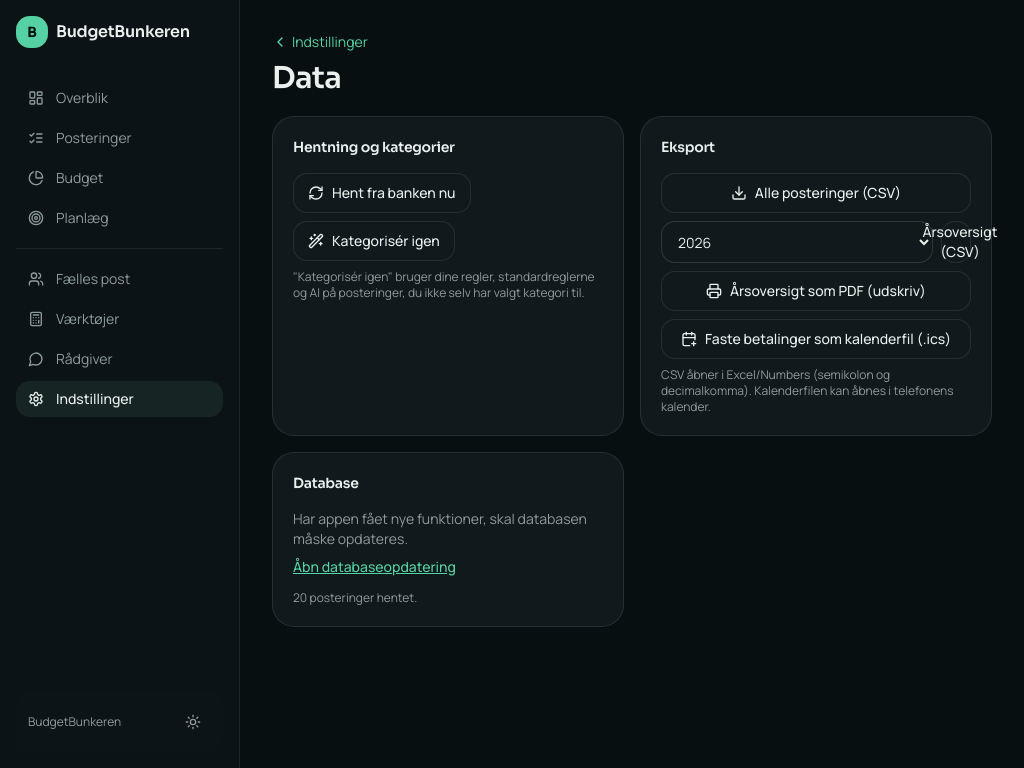
Test case: Ny app – resten › Indstillinger: data kan kategoriseres igen
Click the button "Kategorisér igen".
click(374, 241)  # box [293,221,455,261]
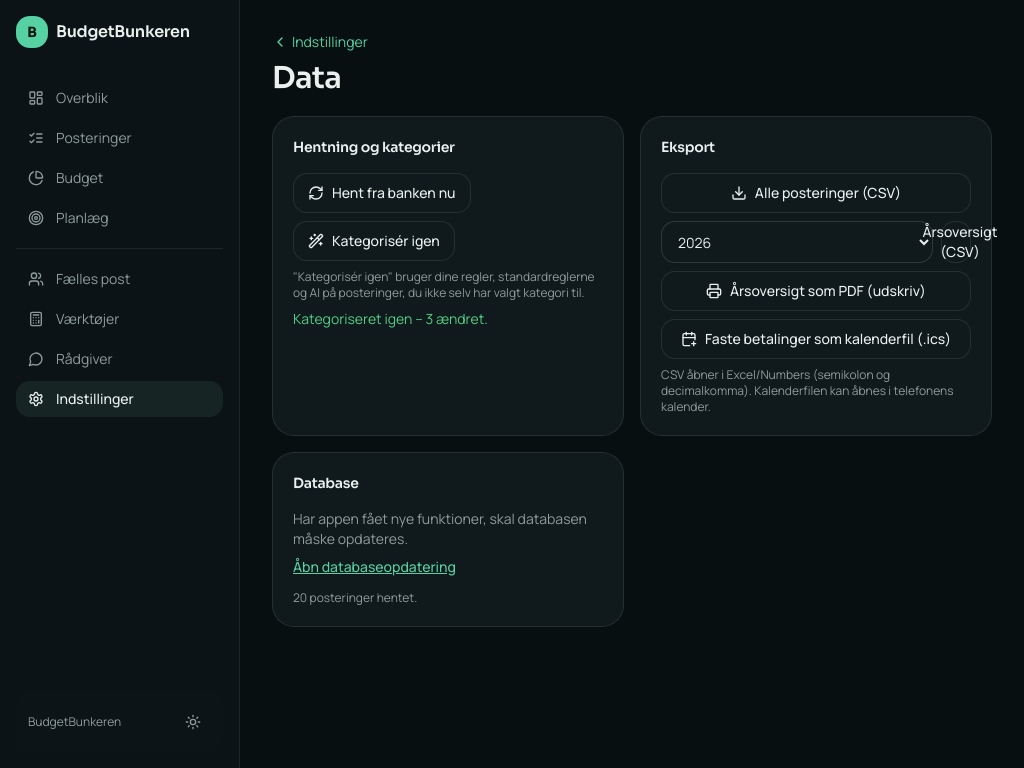
Result: the text "Kategoriseret igen – 3 ændret." is shown at [293,309,488,328]
